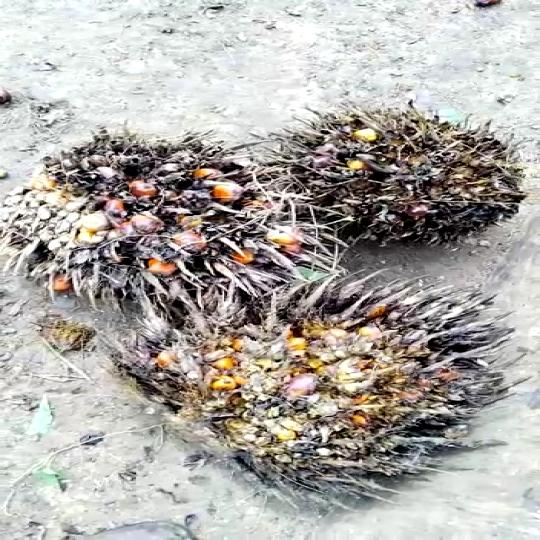terlalu masak: (113, 266, 507, 486), (0, 132, 342, 316), (253, 111, 526, 243)
